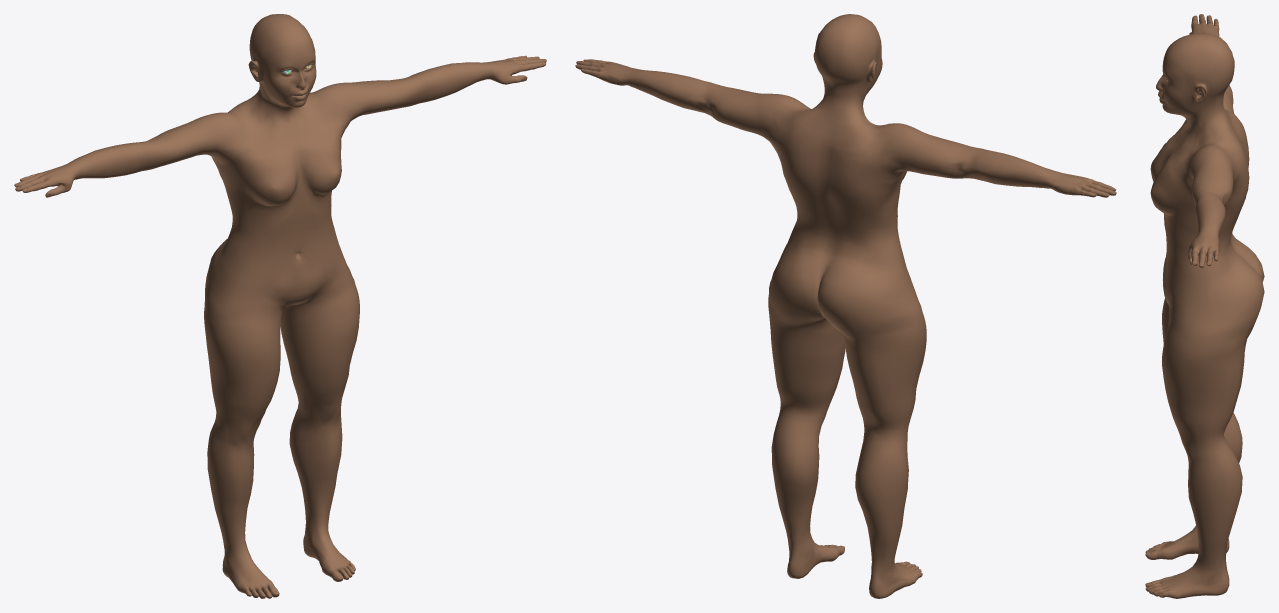
File: KamiyaBasev2.fbx
3 views of the same model, side by side, from view 1: azimuth 30°, elevation 25°; view 2: azimuth 150°, elevation 25°; view 3: azimuth 270°, elevation 25° (orthographic). The views are drawn at different scales.
Visible parts, largest first — view 1: female_genericMesh; view 2: female_genericMesh; view 3: female_genericMesh.
Part boxes in pixels (box(x1,y1,x2,y2)): female_genericMesh: box(14, 14, 546, 598); female_genericMesh: box(575, 14, 1116, 598); female_genericMesh: box(1145, 14, 1264, 598).
Bounding box in the file's own units: 16.7 × 16.62 × 3.33.
Materials: 2 (1 with a texture image).
